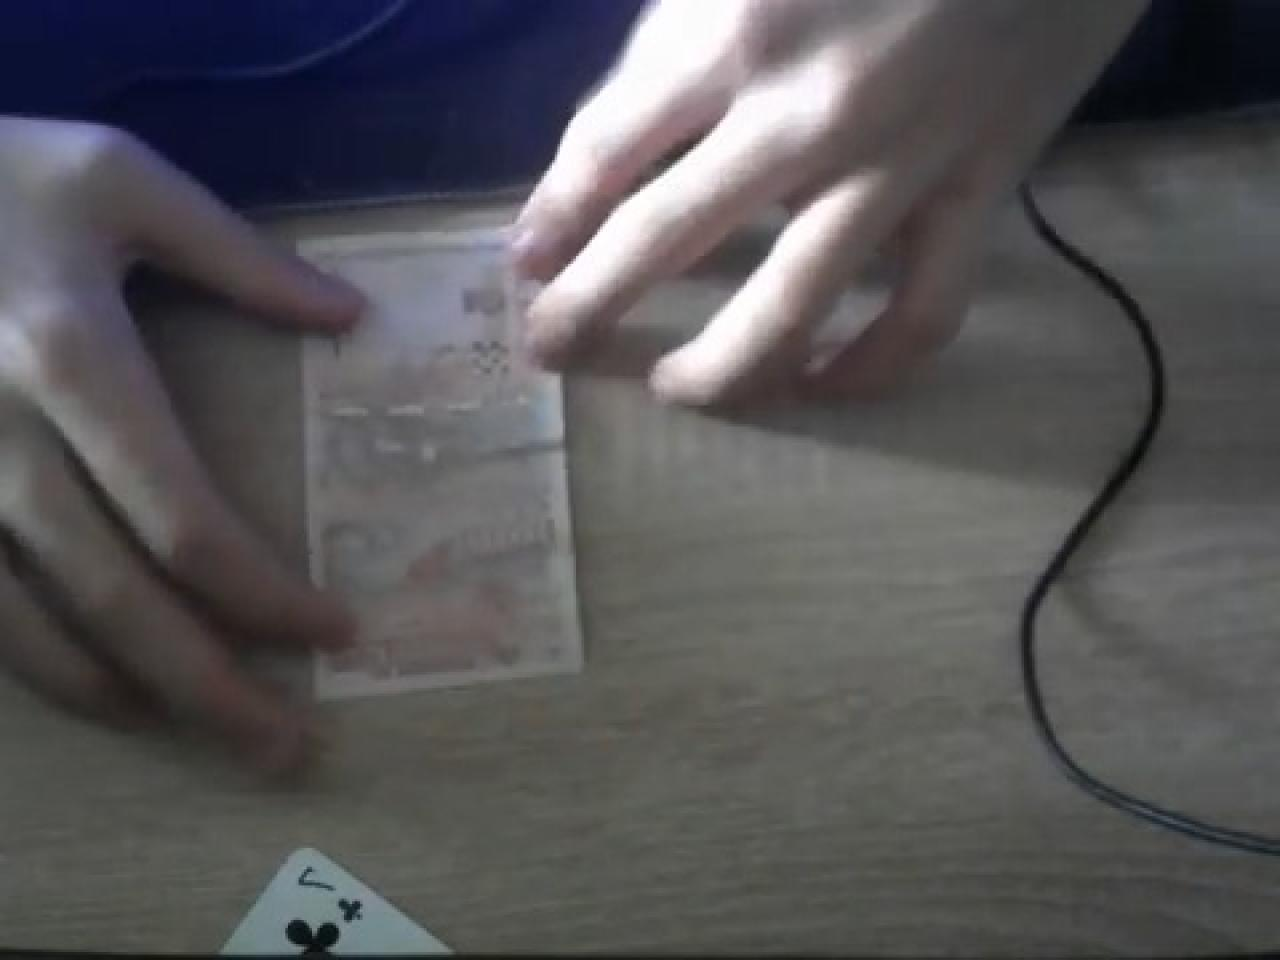5leva: (264, 187, 584, 707)
